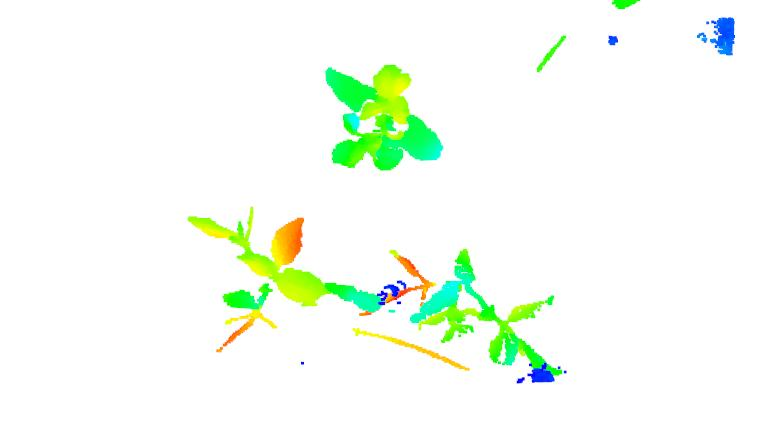mungbean: (357, 243, 569, 389), (182, 207, 377, 357), (322, 60, 444, 176)
